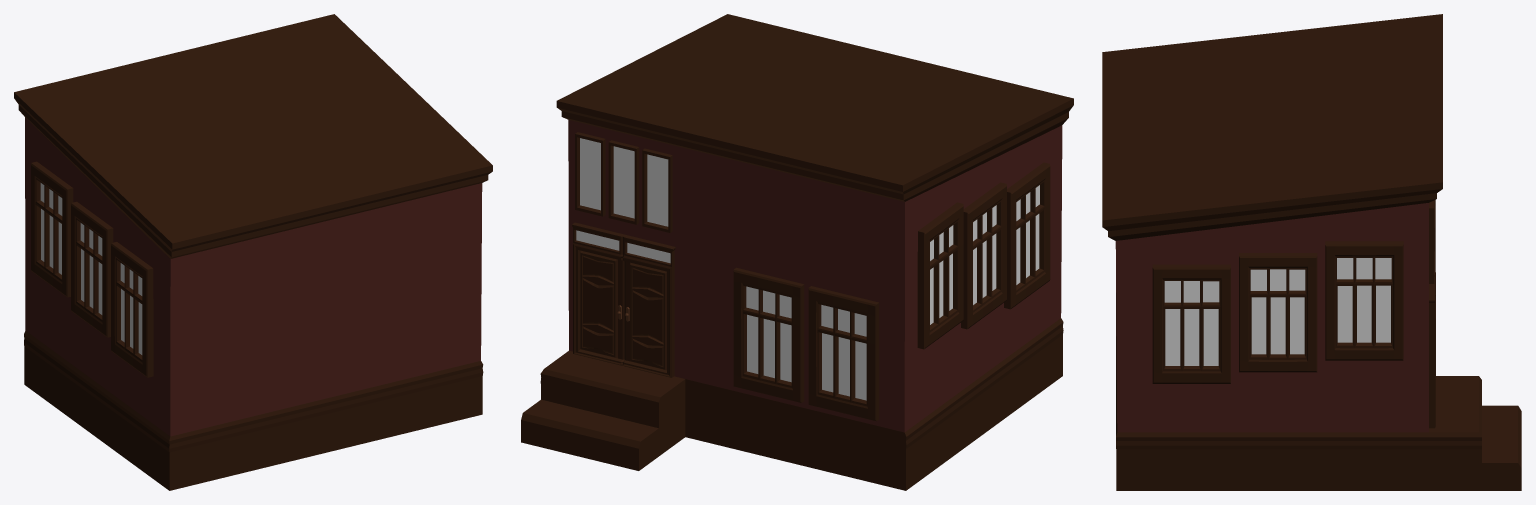
Rendered from AngledbuildingA_model.fbx.
3 renders of one model, left to right at view 1: azimuth 30°, elevation 25°; view 2: azimuth 150°, elevation 25°; view 3: azimuth 270°, elevation 25°, orthographic. The views are drawn at different scales.
Parts seen in each view (by area): view 1: AngledbuildingA_model; view 2: AngledbuildingA_model; view 3: AngledbuildingA_model.
Part boxes in pixels (box(x1,y1,x2,y2)): AngledbuildingA_model: box(14, 14, 492, 490); AngledbuildingA_model: box(521, 14, 1073, 490); AngledbuildingA_model: box(1102, 14, 1521, 490).
Bounding box in the file's own units: 810 × 842 × 688.
